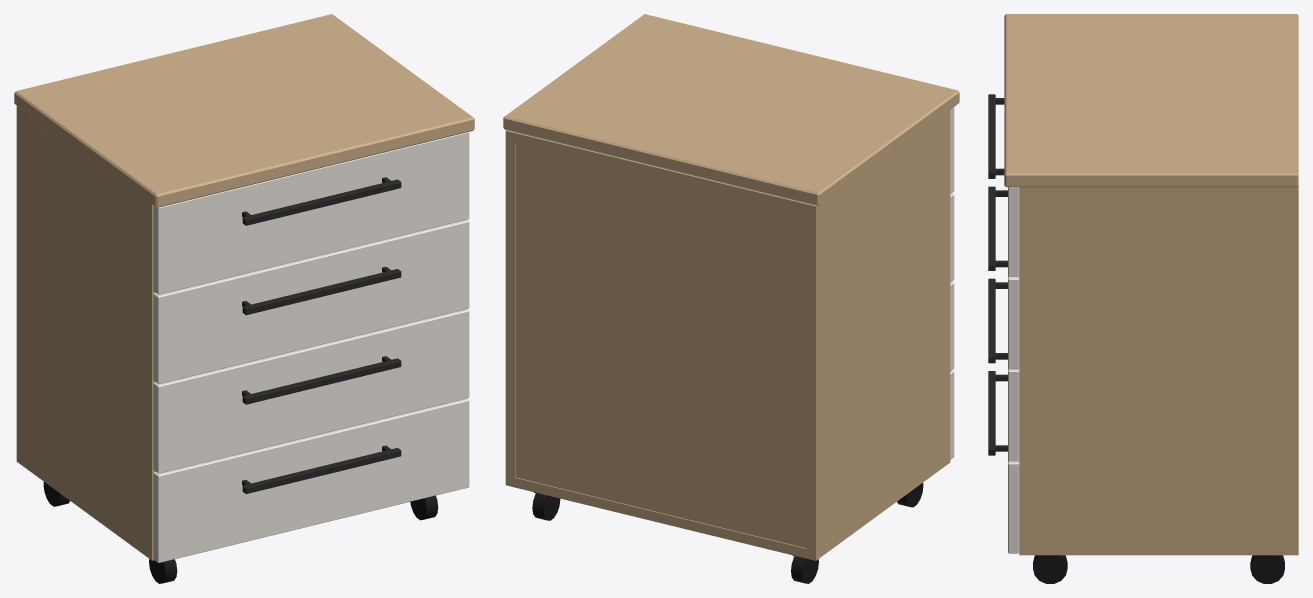
Rendered from 45_komoda_kolka_60.glb.
3 views of the same model, side by side, from view 1: azimuth 30°, elevation 25°; view 2: azimuth 150°, elevation 25°; view 3: azimuth 270°, elevation 25° (orthographic). The views are drawn at different scales.
Visible parts, largest first — view 1: Wierzch, Korpus, Front_szuflada_3, Front_szuflada_2, Front_szuflada_4, Front_szuflada_1, Uchwyty, Kolka; view 2: Korpus, Wierzch, Kolka; view 3: Korpus, Wierzch, Uchwyty, Kolka, Front_szuflada_3, Front_szuflada_2, Front_szuflada_4, Front_szuflada_1.
Part boxes in pixels (x1=…): Wierzch: x1=14, y1=14, x2=474, y2=207; Korpus: x1=16, y1=106, x2=155, y2=560; Front_szuflada_3: x1=153, y1=309, x2=469, y2=473; Front_szuflada_2: x1=153, y1=219, x2=469, y2=384; Front_szuflada_4: x1=153, y1=398, x2=469, y2=562; Front_szuflada_1: x1=153, y1=132, x2=469, y2=294; Uchwyty: x1=242, y1=177, x2=401, y2=493; Kolka: x1=43, y1=482, x2=438, y2=583; Korpus: x1=505, y1=110, x2=950, y2=560; Wierzch: x1=503, y1=14, x2=959, y2=205; Kolka: x1=532, y1=483, x2=923, y2=583; Korpus: x1=1019, y1=186, x2=1298, y2=555; Wierzch: x1=1004, y1=14, x2=1298, y2=187; Uchwyty: x1=988, y1=94, x2=1007, y2=455; Kolka: x1=1033, y1=555, x2=1284, y2=583; Front_szuflada_3: x1=1008, y1=368, x2=1019, y2=461; Front_szuflada_2: x1=1008, y1=276, x2=1019, y2=369; Front_szuflada_4: x1=1008, y1=461, x2=1019, y2=553; Front_szuflada_1: x1=1008, y1=187, x2=1019, y2=276.
Size of the model in its own units: 0.612 by 0.7493 by 0.5.
